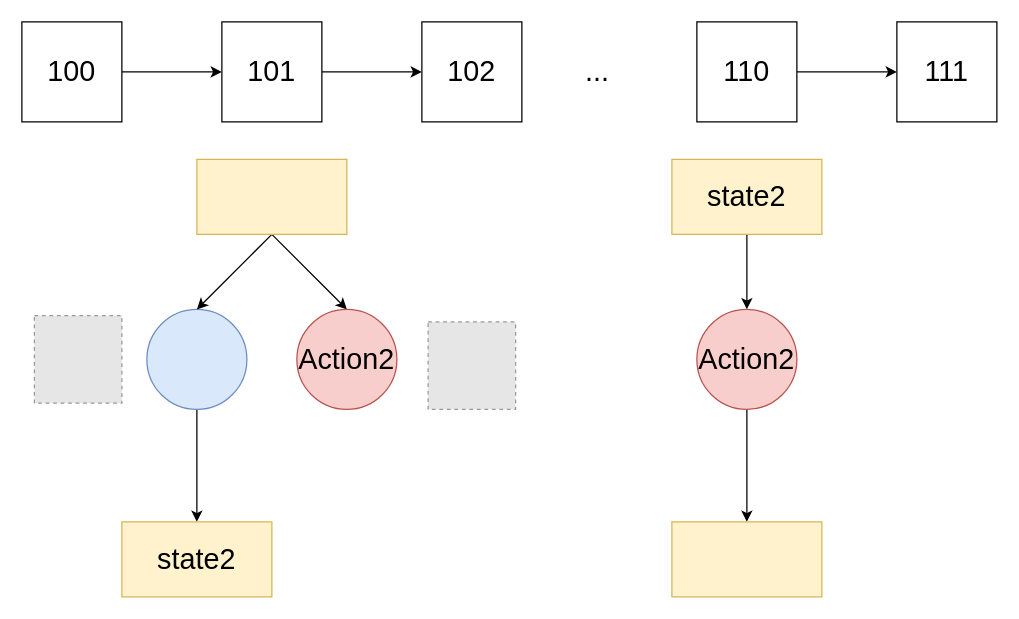
This 1019x619 diagram has some shape labels left out. Grey dashed boxes stand in for pictures. Each missing label, with the centre of its shape:
"Action1" belongs at point 196,358.
"state1" belongs at point 271,196.
"state3" belongs at point 746,559.
